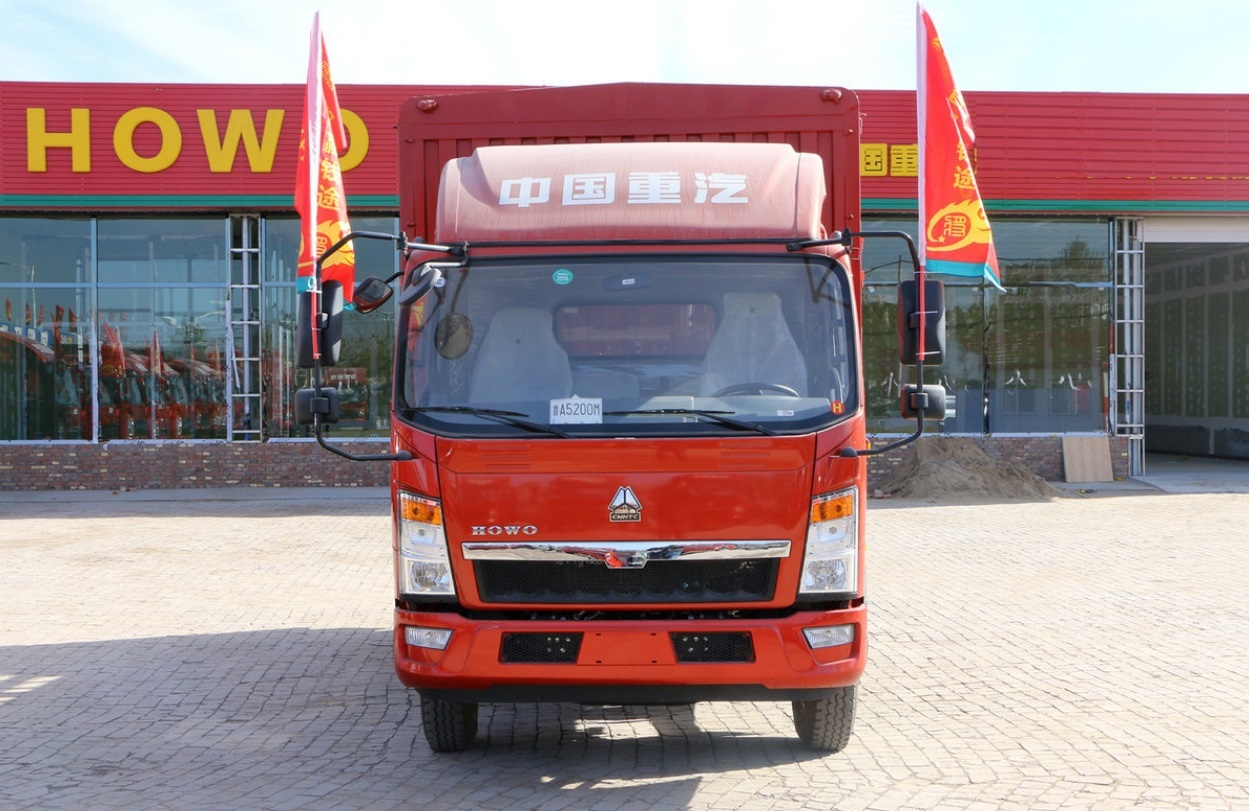heavy truck: (346, 142, 939, 778)
